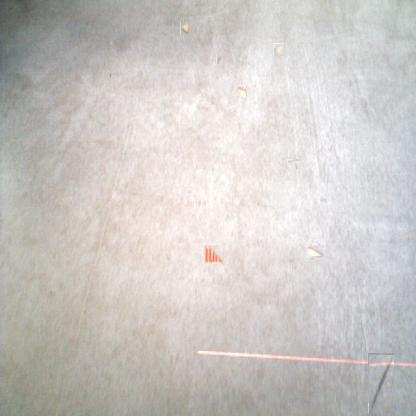dirty: (204, 244, 224, 264), (307, 243, 323, 259), (235, 85, 247, 98), (273, 44, 284, 55), (180, 22, 189, 35)
mark: (368, 354, 394, 414), (290, 156, 302, 167), (319, 196, 328, 204), (216, 54, 223, 64), (108, 70, 112, 78)
